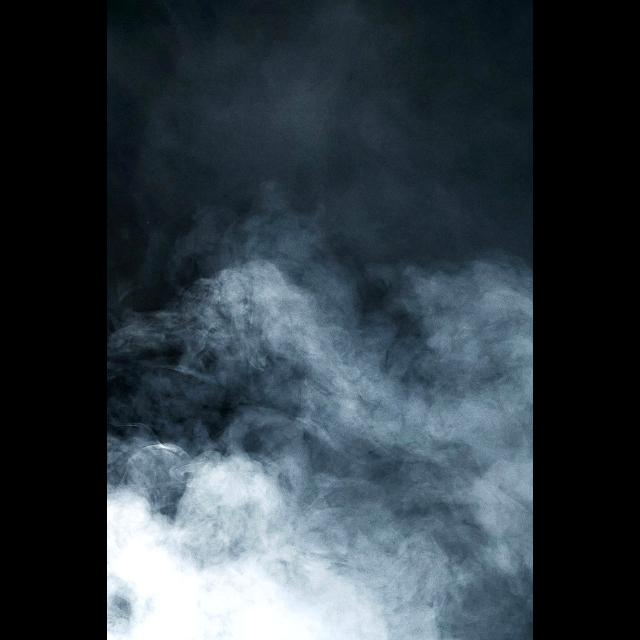smoke: (107, 258, 534, 640)
